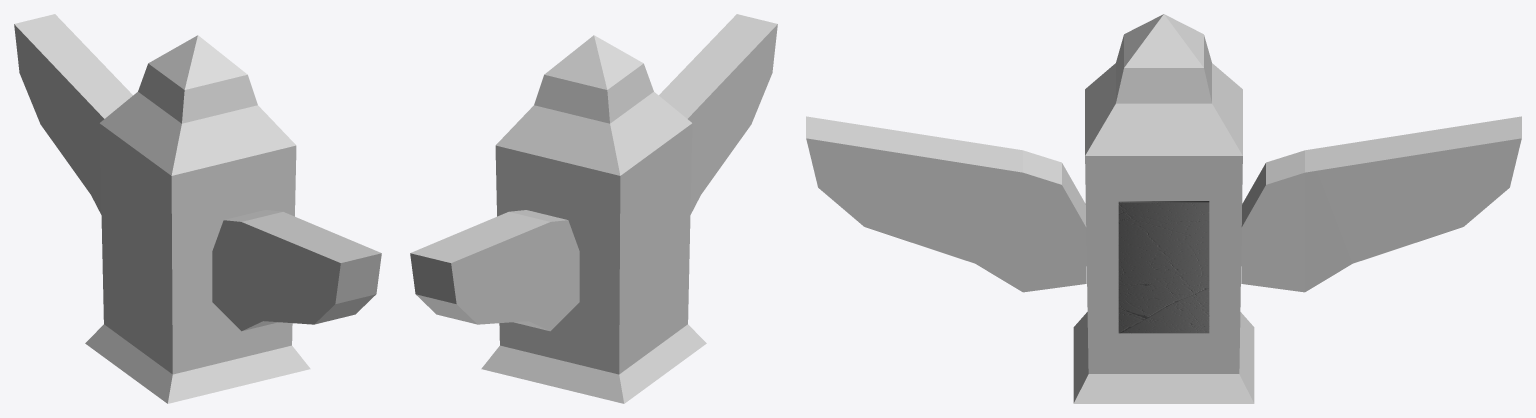
Rendered from Monolith.fbx.
3 views of the same model, side by side, from view 1: azimuth 30°, elevation 25°; view 2: azimuth 150°, elevation 25°; view 3: azimuth 270°, elevation 25° (orthographic). The views are drawn at different scales.
Visible parts, largest first — view 1: Cube, Cube.001; view 2: Cube, Cube.001; view 3: Cube.001, Cube, Cube.002.
Part boxes in pixels (x1,y1,x2,y2): Cube: [85, 35, 310, 403]; Cube.001: [14, 14, 381, 331]; Cube: [481, 35, 706, 403]; Cube.001: [410, 14, 777, 331]; Cube.001: [806, 116, 1521, 292]; Cube: [1073, 14, 1254, 403]; Cube.002: [1118, 201, 1209, 333].
Size of the model in its own units: 240 by 515 by 949.
